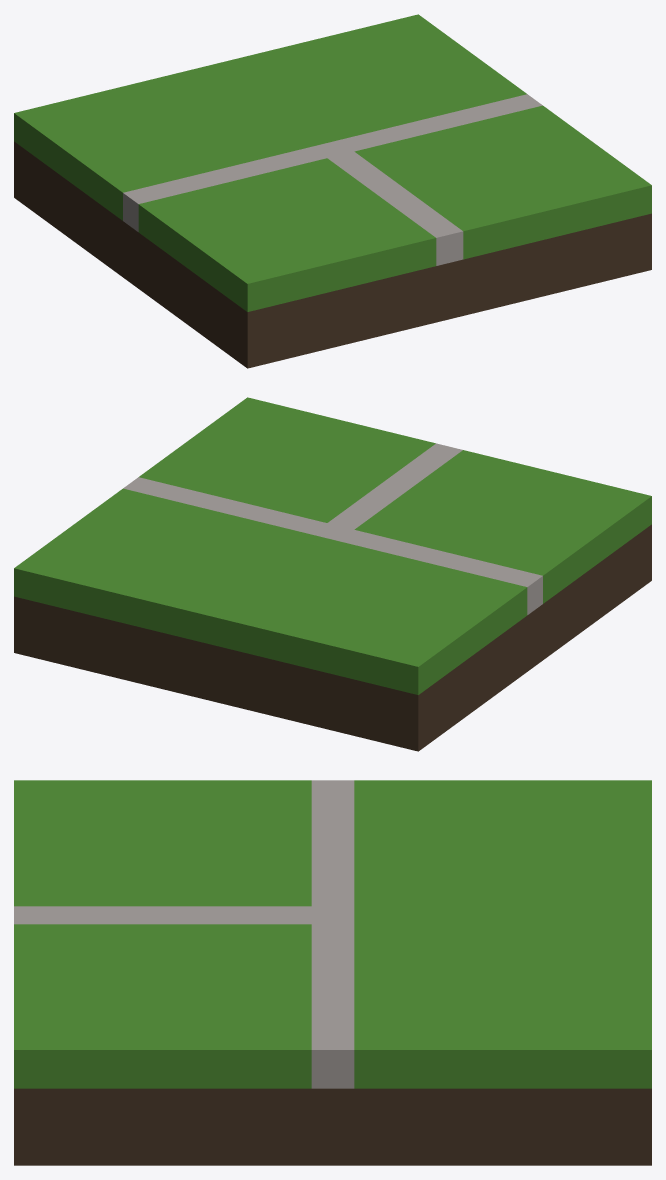
The model's file is tiles_tile-sidewalk-intersection-t.fbx.
3 views of the same model, one above another, from view 1: azimuth 30°, elevation 25°; view 2: azimuth 150°, elevation 25°; view 3: azimuth 270°, elevation 25° (orthographic). The views are drawn at different scales.
Visible parts, largest first — view 1: tiles_tile_sidewalk_intersection_t; view 2: tiles_tile_sidewalk_intersection_t; view 3: tiles_tile_sidewalk_intersection_t.
Part boxes in pixels (x1=…): tiles_tile_sidewalk_intersection_t: x1=14, y1=14, x2=651, y2=368; tiles_tile_sidewalk_intersection_t: x1=14, y1=397, x2=651, y2=751; tiles_tile_sidewalk_intersection_t: x1=14, y1=780, x2=651, y2=1165.
Bounding box in the file's own units: 200 × 40 × 200.
